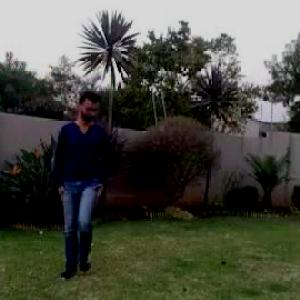follow: (42, 70, 118, 291)
